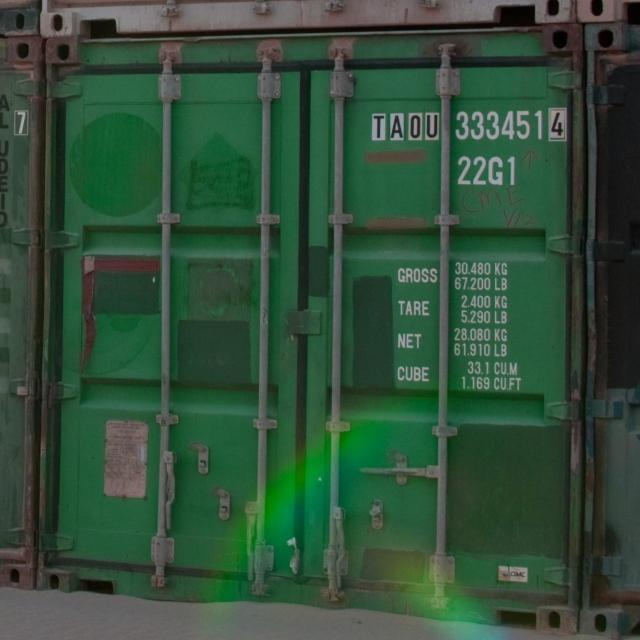ISO: (454, 154, 518, 188)
container_number: (369, 109, 572, 142)
